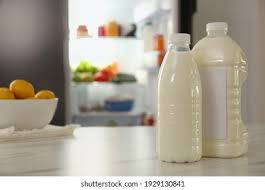milk: (195, 17, 252, 152), (157, 34, 203, 161)
